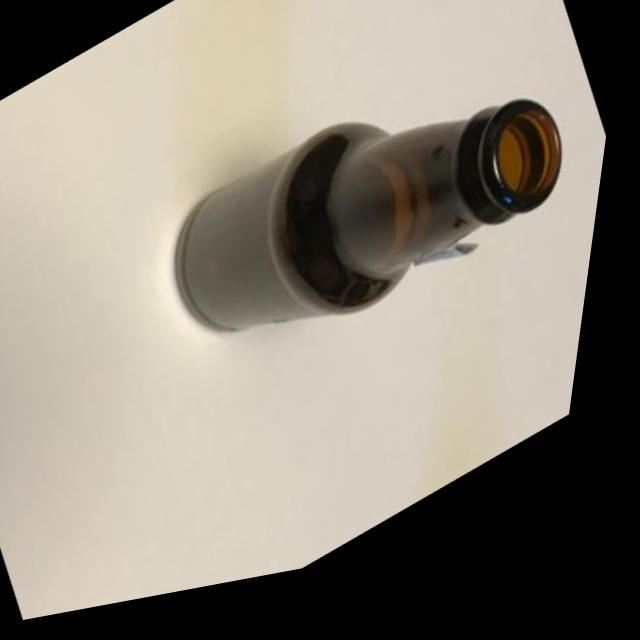glass: (68, 0, 636, 513)
